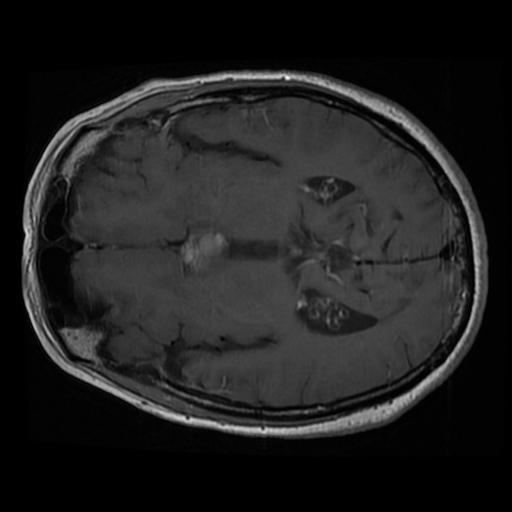pituitary tumour: (182, 231, 226, 272)
